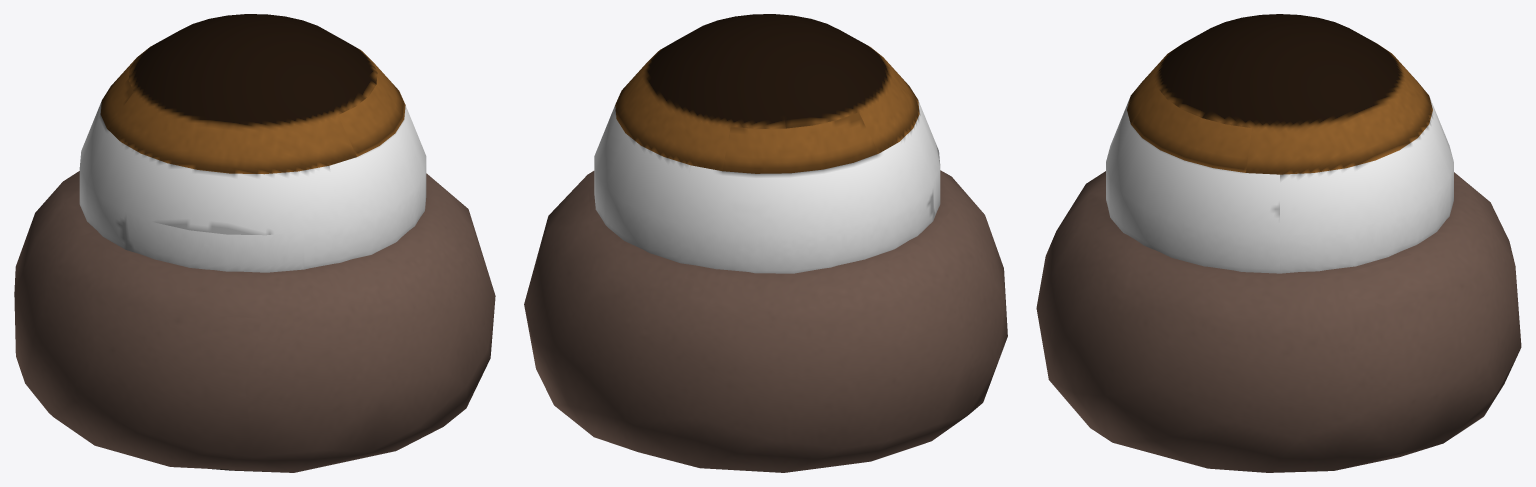
The model's file is cpart_eye_beady.glb.
3 renders of one model, left to right at view 1: azimuth 30°, elevation 25°; view 2: azimuth 150°, elevation 25°; view 3: azimuth 270°, elevation 25°, orthographic.
Visible parts, largest first — view 1: Lid, EyeBeady; view 2: Lid, EyeBeady; view 3: Lid, EyeBeady.
Boxes of the visible parts, x1,y1,x2,y2 form: Lid: (14, 171, 495, 472); EyeBeady: (79, 14, 426, 272); Lid: (524, 170, 1007, 472); EyeBeady: (594, 14, 940, 273); Lid: (1036, 171, 1521, 472); EyeBeady: (1106, 14, 1453, 273).
Size of the model in its own units: 0.0768 by 0.0625 by 0.0768.
Materials: 3 (3 with a texture image).
